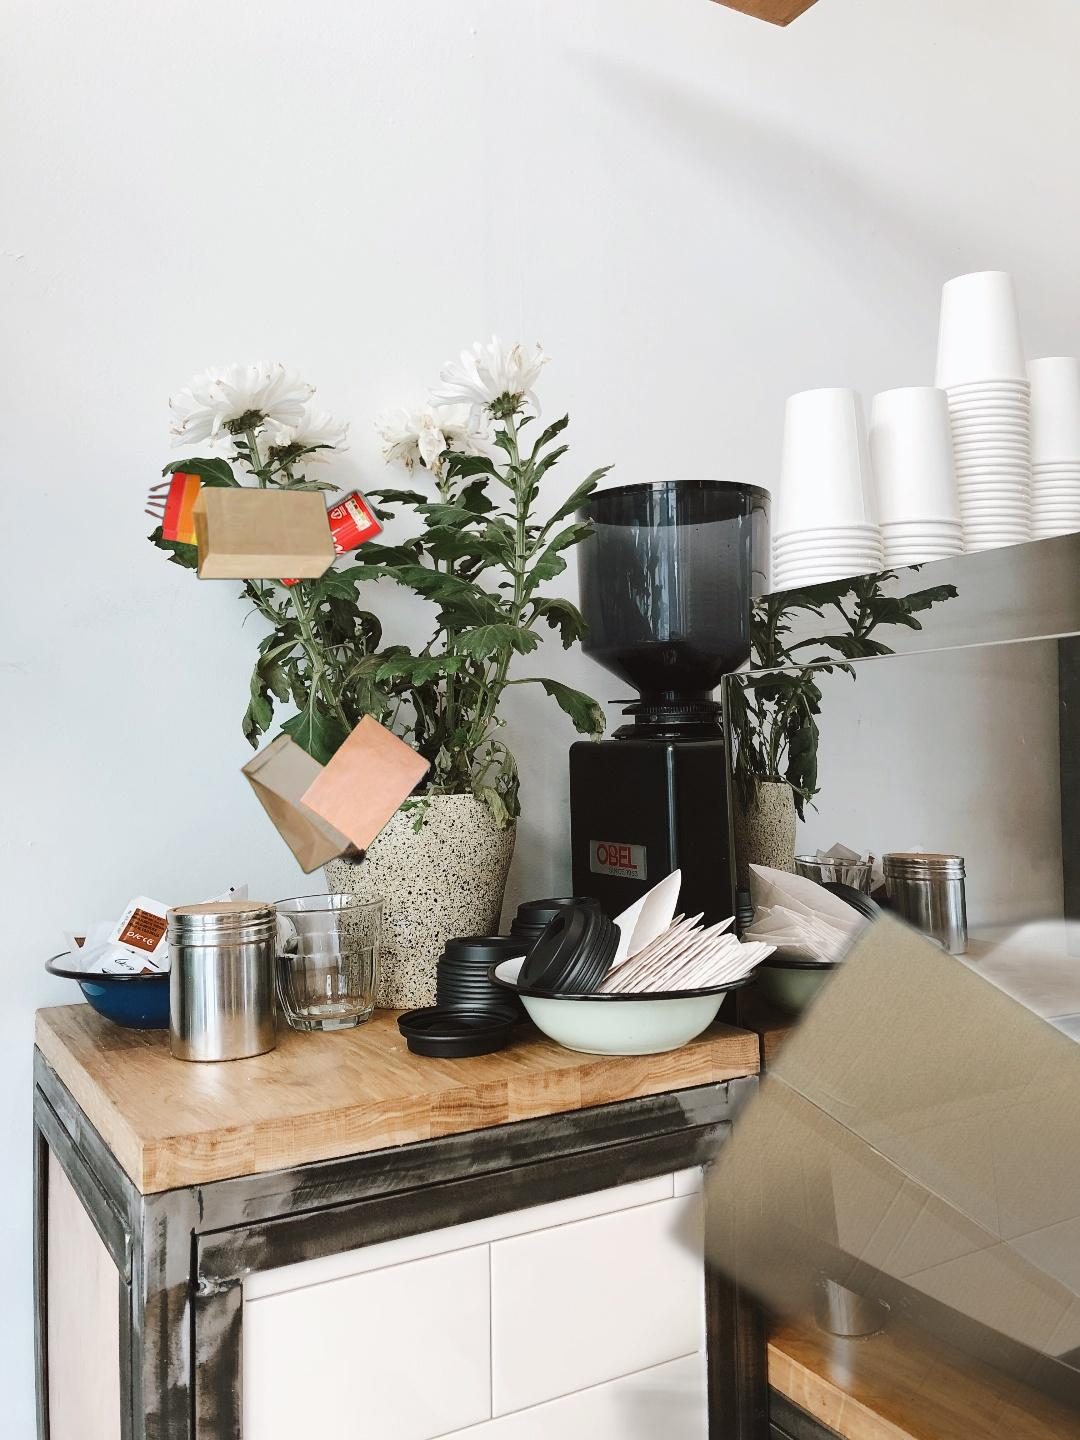metal-cans: (261, 485, 388, 600)
paper-bag: (238, 711, 434, 876), (144, 468, 338, 581)
trashbox-cardboard: (417, 836, 1080, 1440)
